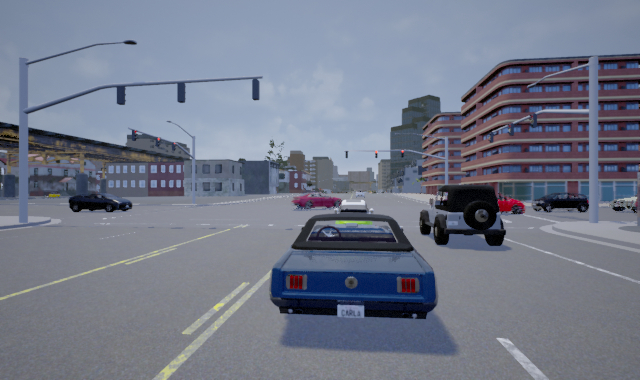traffic_light: (528, 112, 537, 128), (506, 122, 515, 136), (487, 130, 494, 143), (131, 129, 138, 141), (155, 136, 160, 148), (171, 140, 176, 152), (400, 149, 404, 158), (374, 150, 377, 159)
vehicle: (269, 211, 438, 320), (417, 183, 506, 248), (448, 190, 531, 216), (330, 198, 376, 243), (65, 192, 131, 212), (528, 192, 592, 212), (291, 192, 341, 208), (610, 191, 640, 213)
